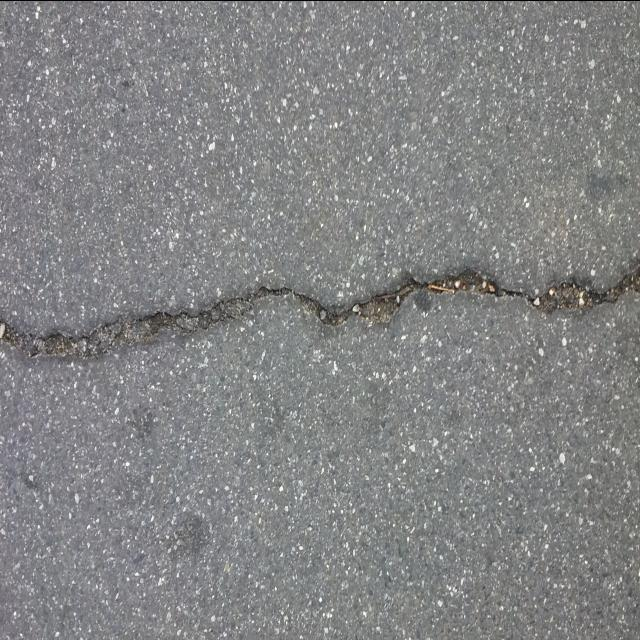Crack: (0, 262, 640, 356)
